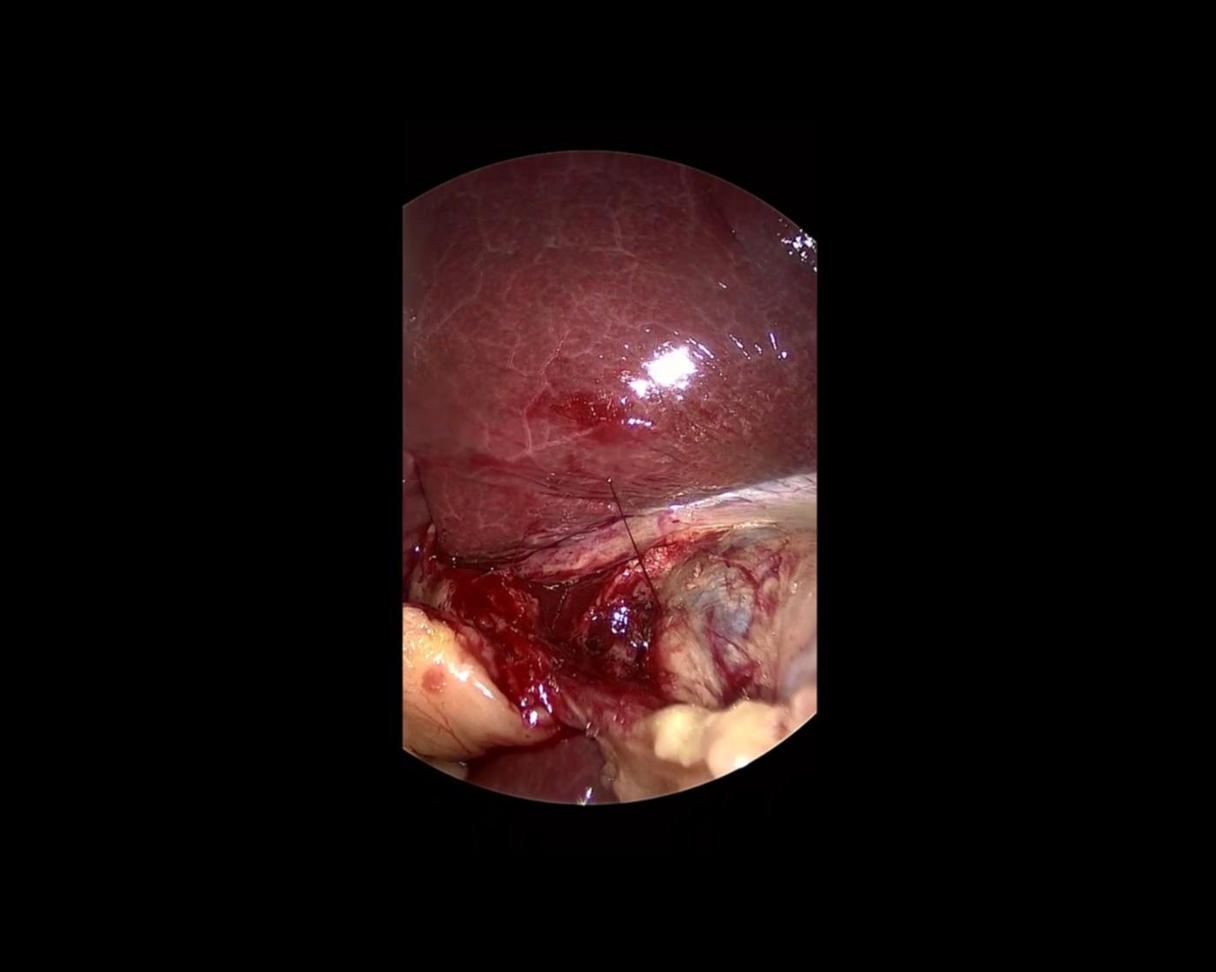Gallbladder: (559, 512, 859, 803)
Liver: (400, 152, 811, 566), (465, 727, 615, 810)
